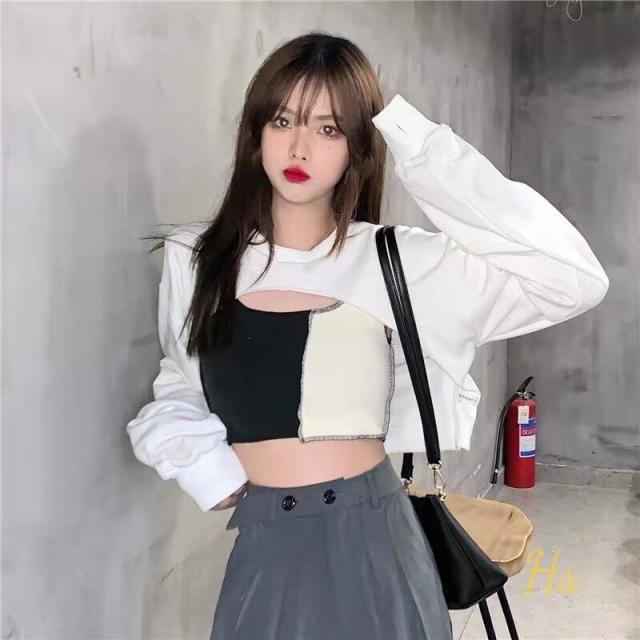clothes: (139, 214, 611, 640)
